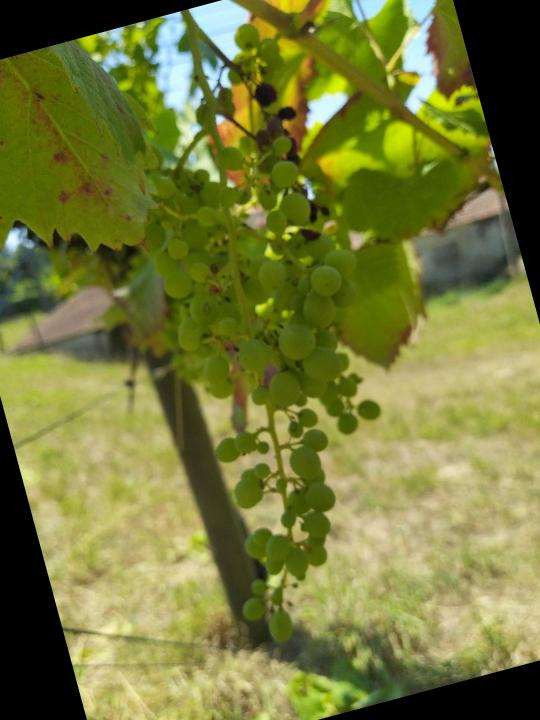grape: (119, 113, 453, 659)
